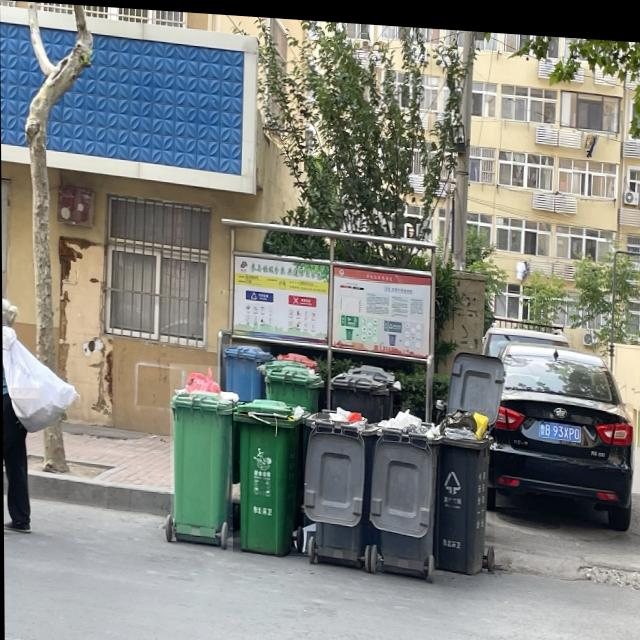garbage_bin: (329, 358, 399, 420), (260, 356, 323, 410), (222, 341, 270, 399)
overflow: (367, 399, 442, 569), (231, 392, 310, 553), (169, 361, 238, 542), (302, 399, 376, 555), (431, 400, 494, 568)
